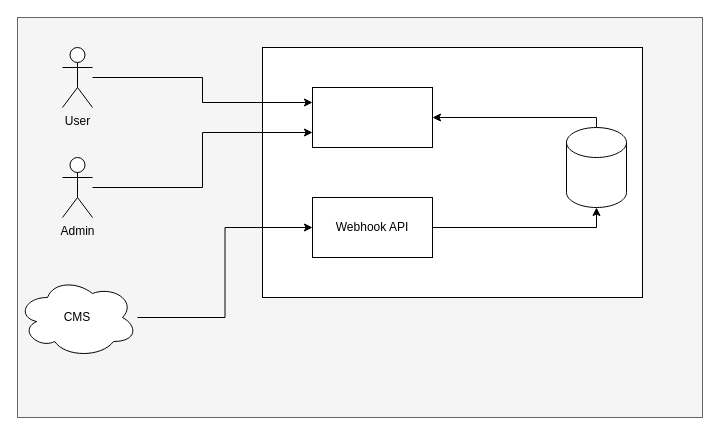
Some shapes in this 720 by 435 pixel diagram are drawn without their labels. Here are the shapes that lost their labels. From the top down, the centre of each, then its label:
At (372,117): "Client API".
At (596,167): "DB".
